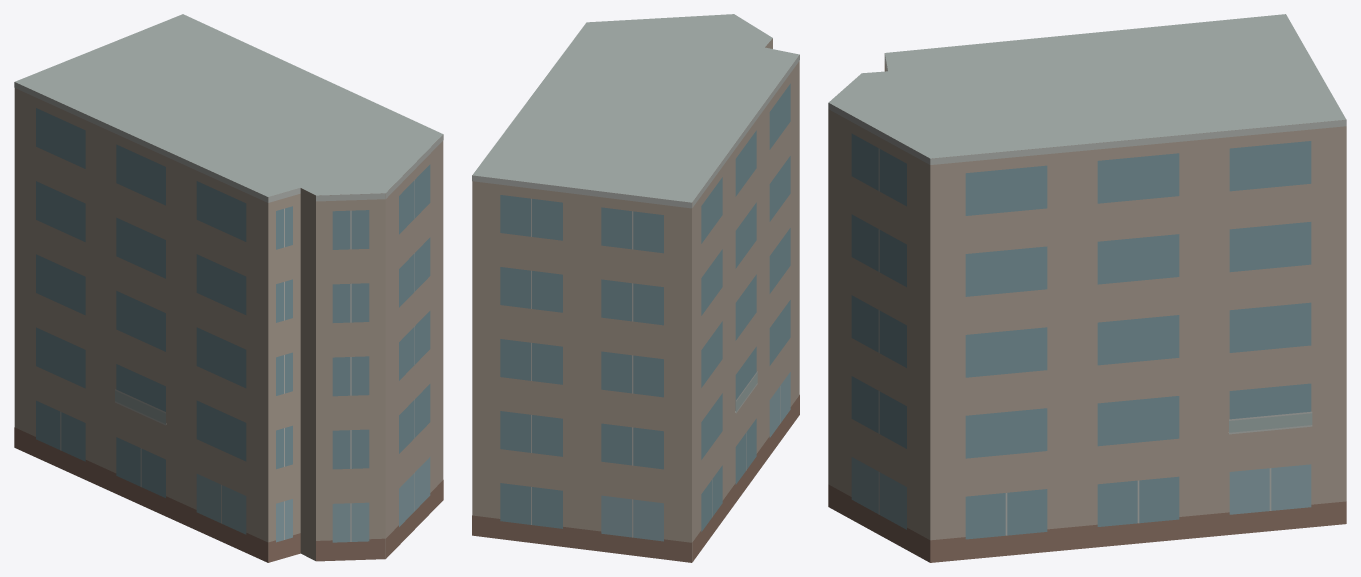
Rendered from survey-upis-32528462.glb.
The picture shows the model from 3 angles, left to right: view 1: azimuth 30°, elevation 25°; view 2: azimuth 150°, elevation 25°; view 3: azimuth 270°, elevation 25°; orthographic projection. The views are drawn at different scales.
Visible parts, largest first — view 1: survey-upis-32528462.tmp; view 2: survey-upis-32528462.tmp; view 3: survey-upis-32528462.tmp.
Part boxes in pixels (x1,y1,x2,y2): survey-upis-32528462.tmp: (14, 14, 443, 562); survey-upis-32528462.tmp: (472, 14, 799, 562); survey-upis-32528462.tmp: (828, 14, 1346, 562).
Size of the model in its own units: 11.59 by 15.1 by 17.55.
